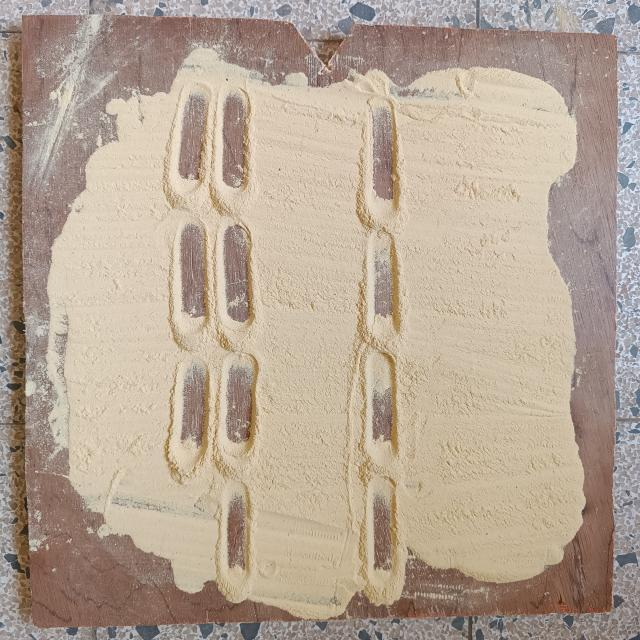double: (165, 350, 265, 472), (166, 216, 260, 344), (168, 83, 258, 207)
single: (358, 472, 404, 600), (360, 94, 404, 220), (362, 228, 407, 344), (361, 352, 404, 468), (215, 483, 258, 598)
